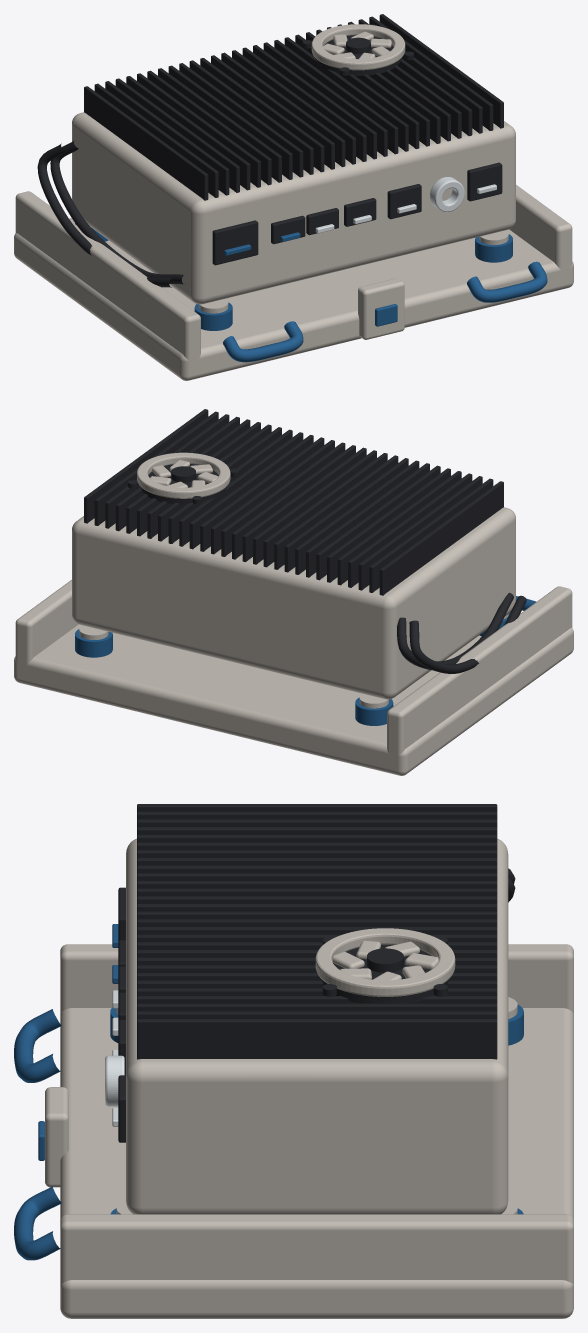
The model's file is anatomy-36.glb.
3 views of the same model, one above another, from view 1: azimuth 30°, elevation 25°; view 2: azimuth 150°, elevation 25°; view 3: azimuth 270°, elevation 25° (orthographic). The views are drawn at different scales.
Parts seen in each view (by area): view 1: case, fins, tray, ports, cables, handles, lock, fan-retainer, mounts, fan; view 2: case, tray, fins, fan-retainer, cables, mounts, fan; view 3: tray, fins, case, fan-retainer, handles, fan, ports, lock, mounts.
Part boxes in pixels (x1,y1,x2,y2): case: [72, 112, 515, 304]; fins: [84, 14, 503, 200]; tray: [14, 185, 573, 380]; ports: [212, 162, 502, 265]; cables: [37, 140, 184, 287]; handles: [223, 261, 547, 362]; lock: [358, 278, 404, 339]; fan-retainer: [302, 24, 413, 75]; mounts: [75, 223, 512, 330]; fan: [315, 31, 401, 75]; case: [72, 507, 515, 699]; tray: [14, 580, 573, 775]; fins: [84, 409, 503, 595]; fan-retainer: [128, 452, 239, 504]; cables: [397, 592, 526, 673]; mounts: [75, 612, 510, 725]; fan: [140, 460, 226, 504]; tray: [60, 944, 573, 1318]; fins: [137, 804, 497, 1059]; case: [126, 838, 508, 1214]; fan-retainer: [315, 928, 455, 996]; handles: [14, 1009, 61, 1260]; fan: [321, 940, 449, 1003]; ports: [105, 887, 125, 1142]; lock: [38, 1087, 68, 1187]; mounts: [110, 997, 523, 1214].
Bounding box in the file's own units: 2.16 × 1.01 × 1.79.
